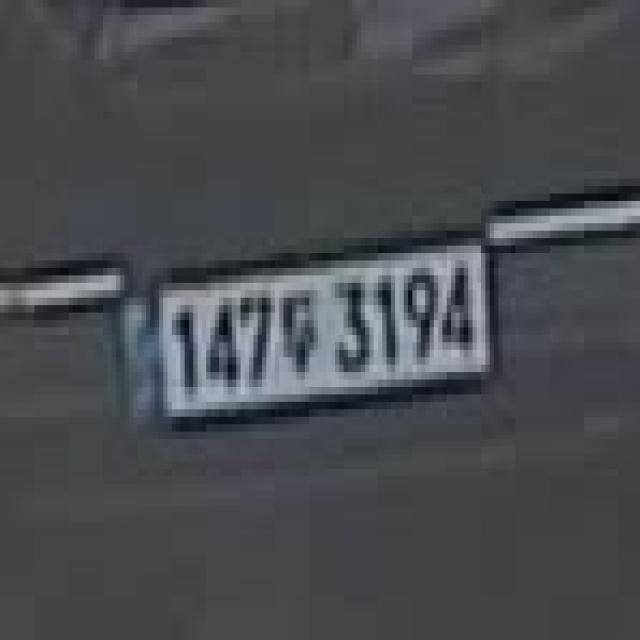illegal_plate: (119, 232, 501, 427)
